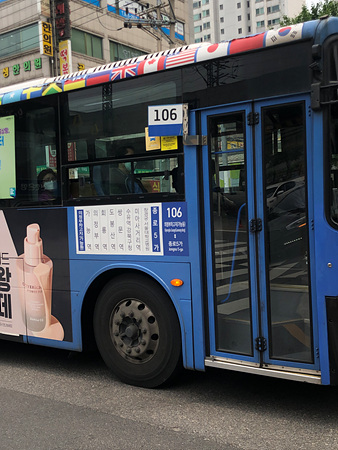entrance: (199, 96, 321, 379)
